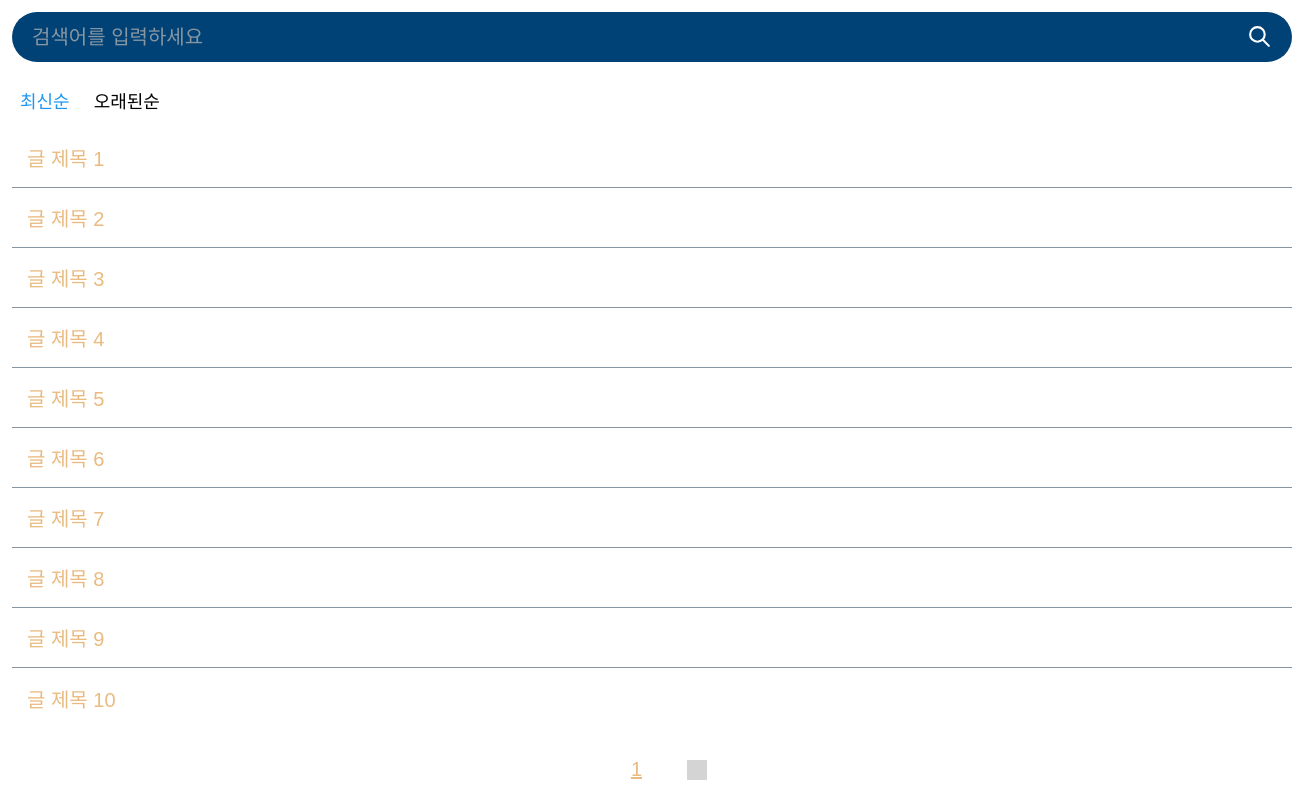
Test: Home 페이지 통합 테스트 › 검색 시 필터링 적용
Type "글 제목 5" into the field with placeholder "검색어를 입력하세요" at (634, 37), box [32,12,1237,62]
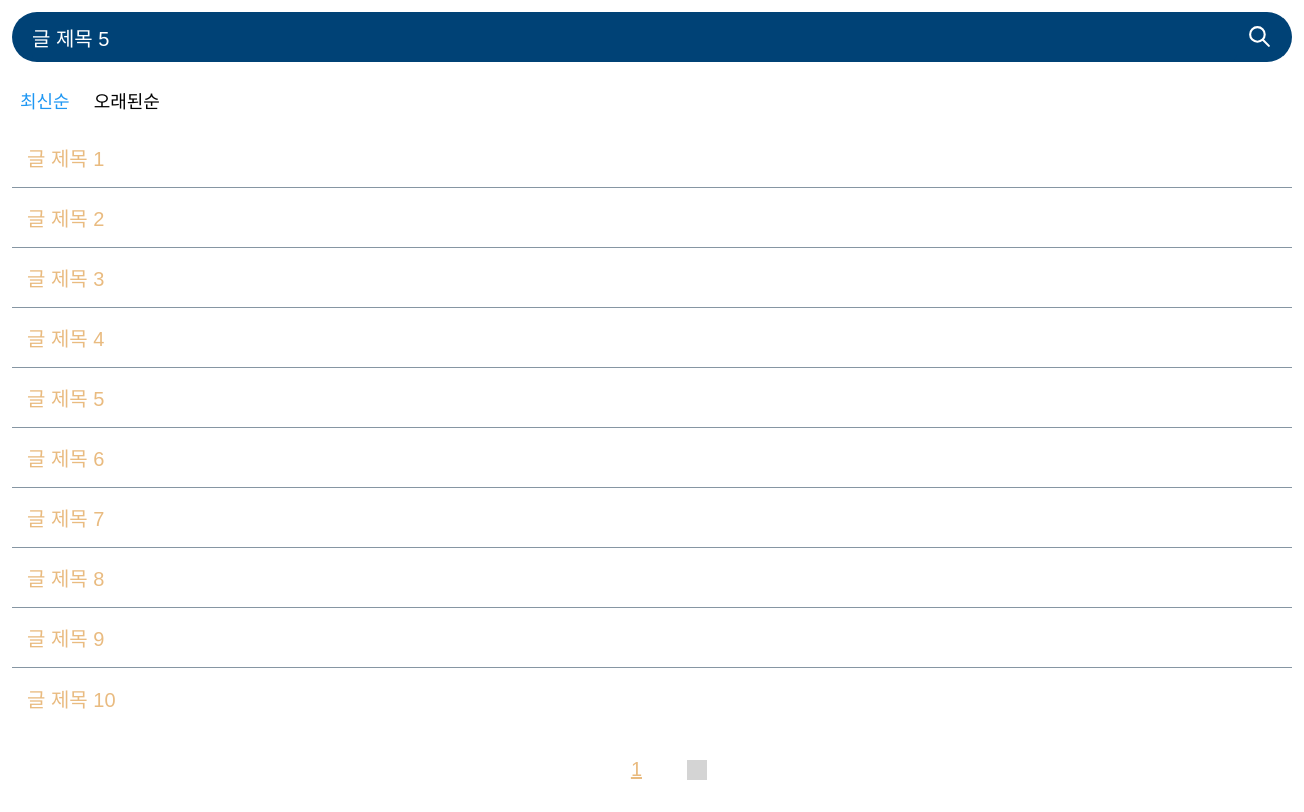
Submit the form with test id "search-form", box [32,12,1272,62]
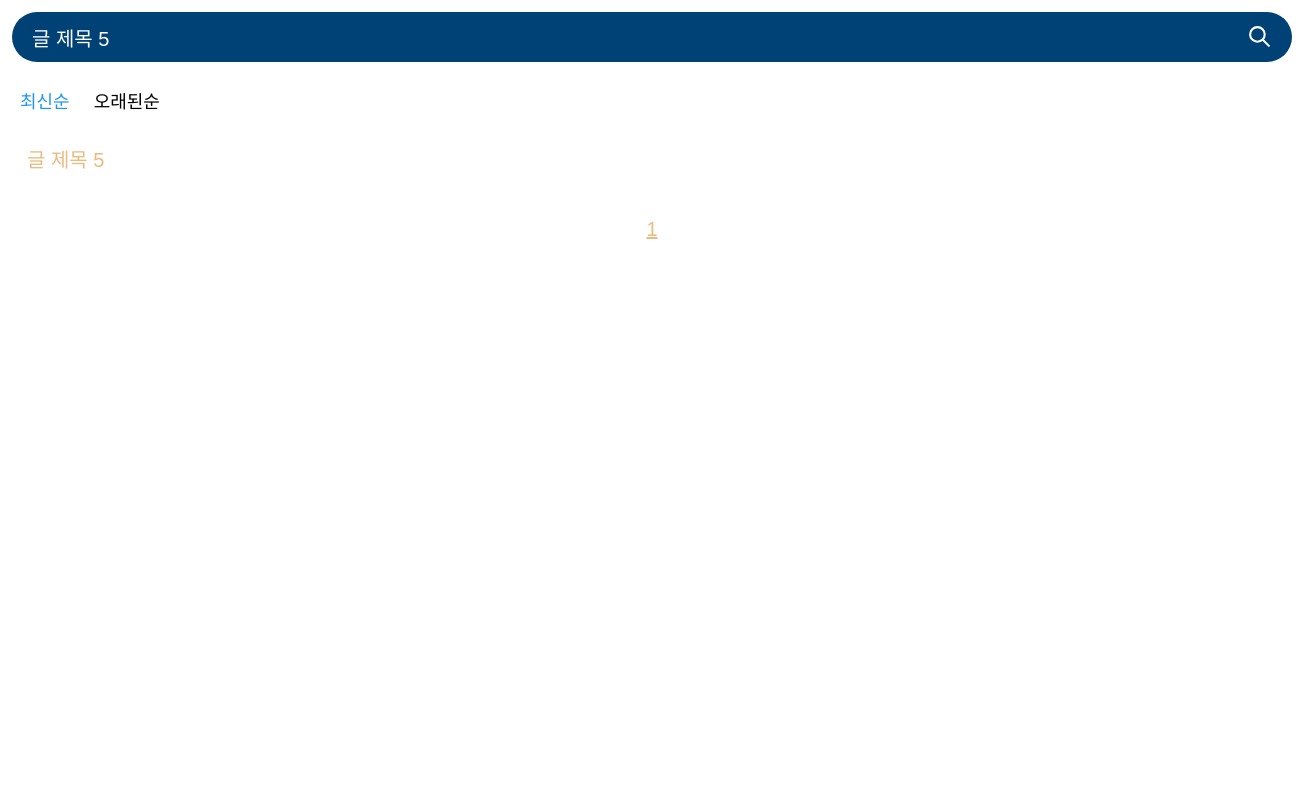
Expected: the text "글 제목 5" is shown, [27,144,104,172]
Result: the link "글 제목 1" is gone
